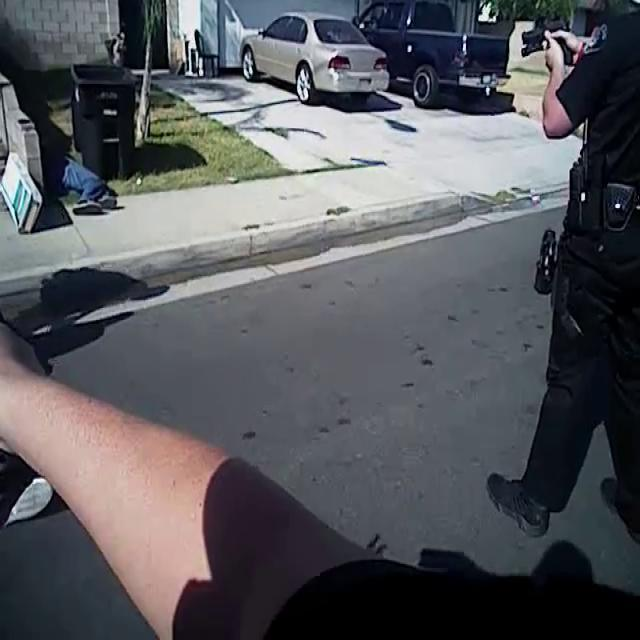gun: (511, 12, 592, 93)
